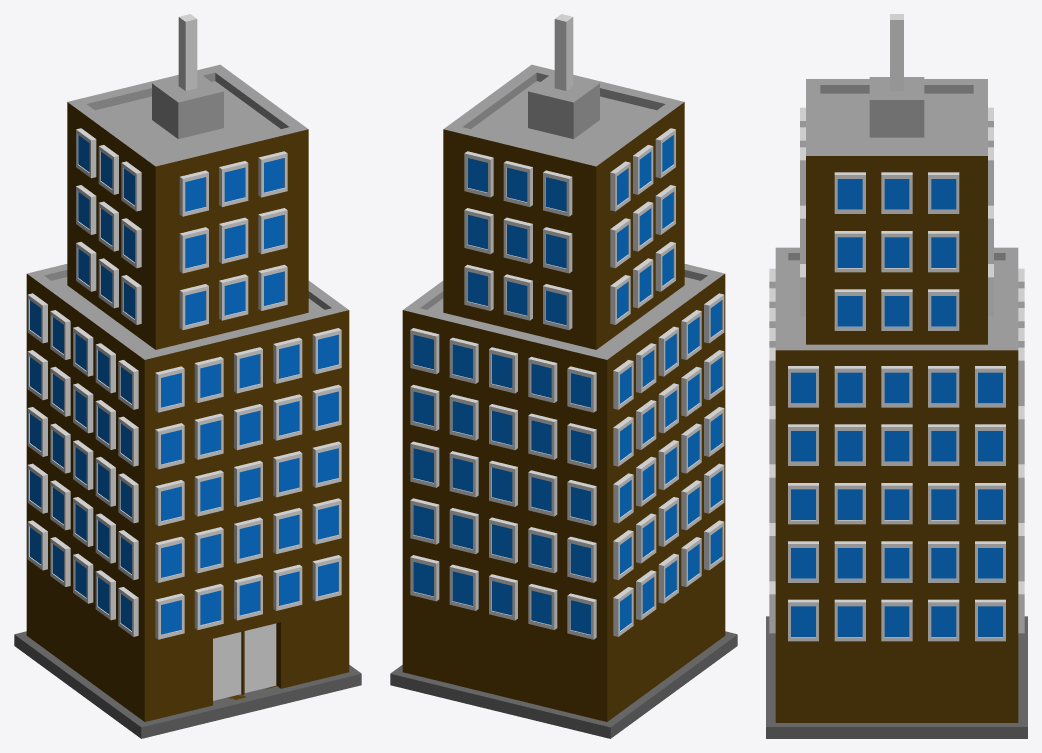
File: Building with antenna.fbx
The picture shows the model from 3 angles, left to right: view 1: azimuth 30°, elevation 25°; view 2: azimuth 150°, elevation 25°; view 3: azimuth 270°, elevation 25°; orthographic projection. The views are drawn at different scales.
Parts seen in each view (by area): view 1: Building with antenna; view 2: Building with antenna; view 3: Building with antenna.
Part boxes in pixels (left/top/right/bottom): Building with antenna: left=14, top=14, right=361, bottom=738; Building with antenna: left=390, top=14, right=737, bottom=738; Building with antenna: left=766, top=14, right=1027, bottom=738.
Bounding box in the file's own units: 400 × 1123 × 400.
